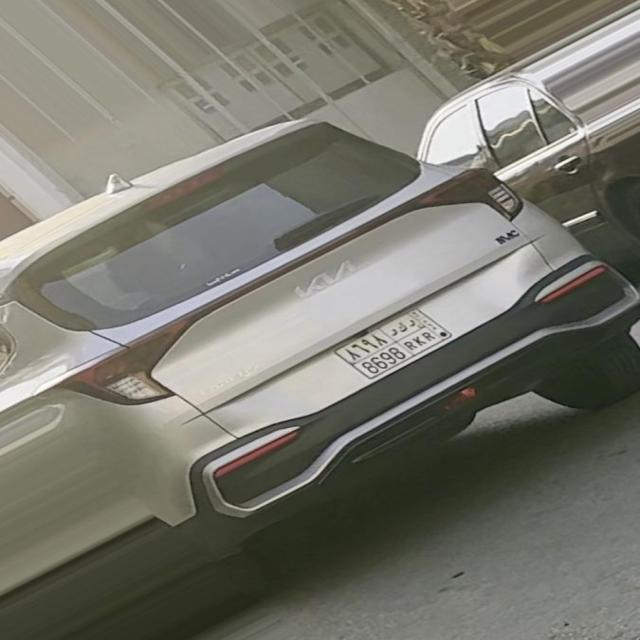Car-plate: (308, 291, 473, 391)
